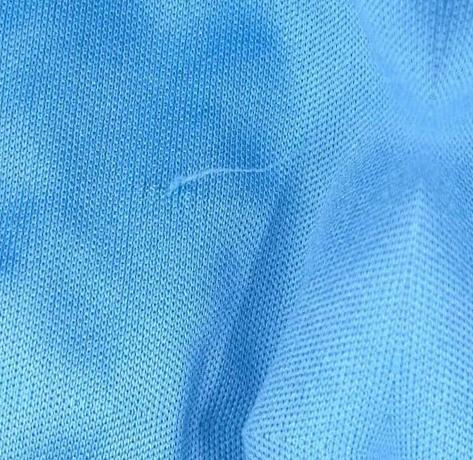snag: (138, 149, 299, 210)
